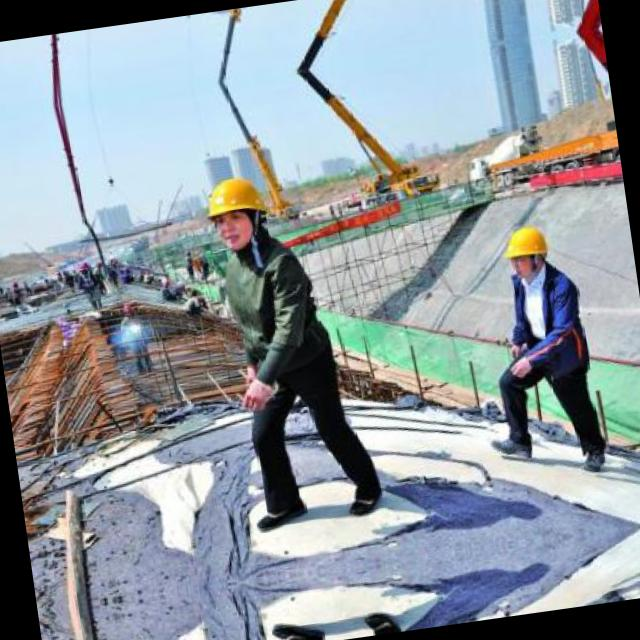helmet: (194, 166, 276, 259), (500, 220, 553, 281)
